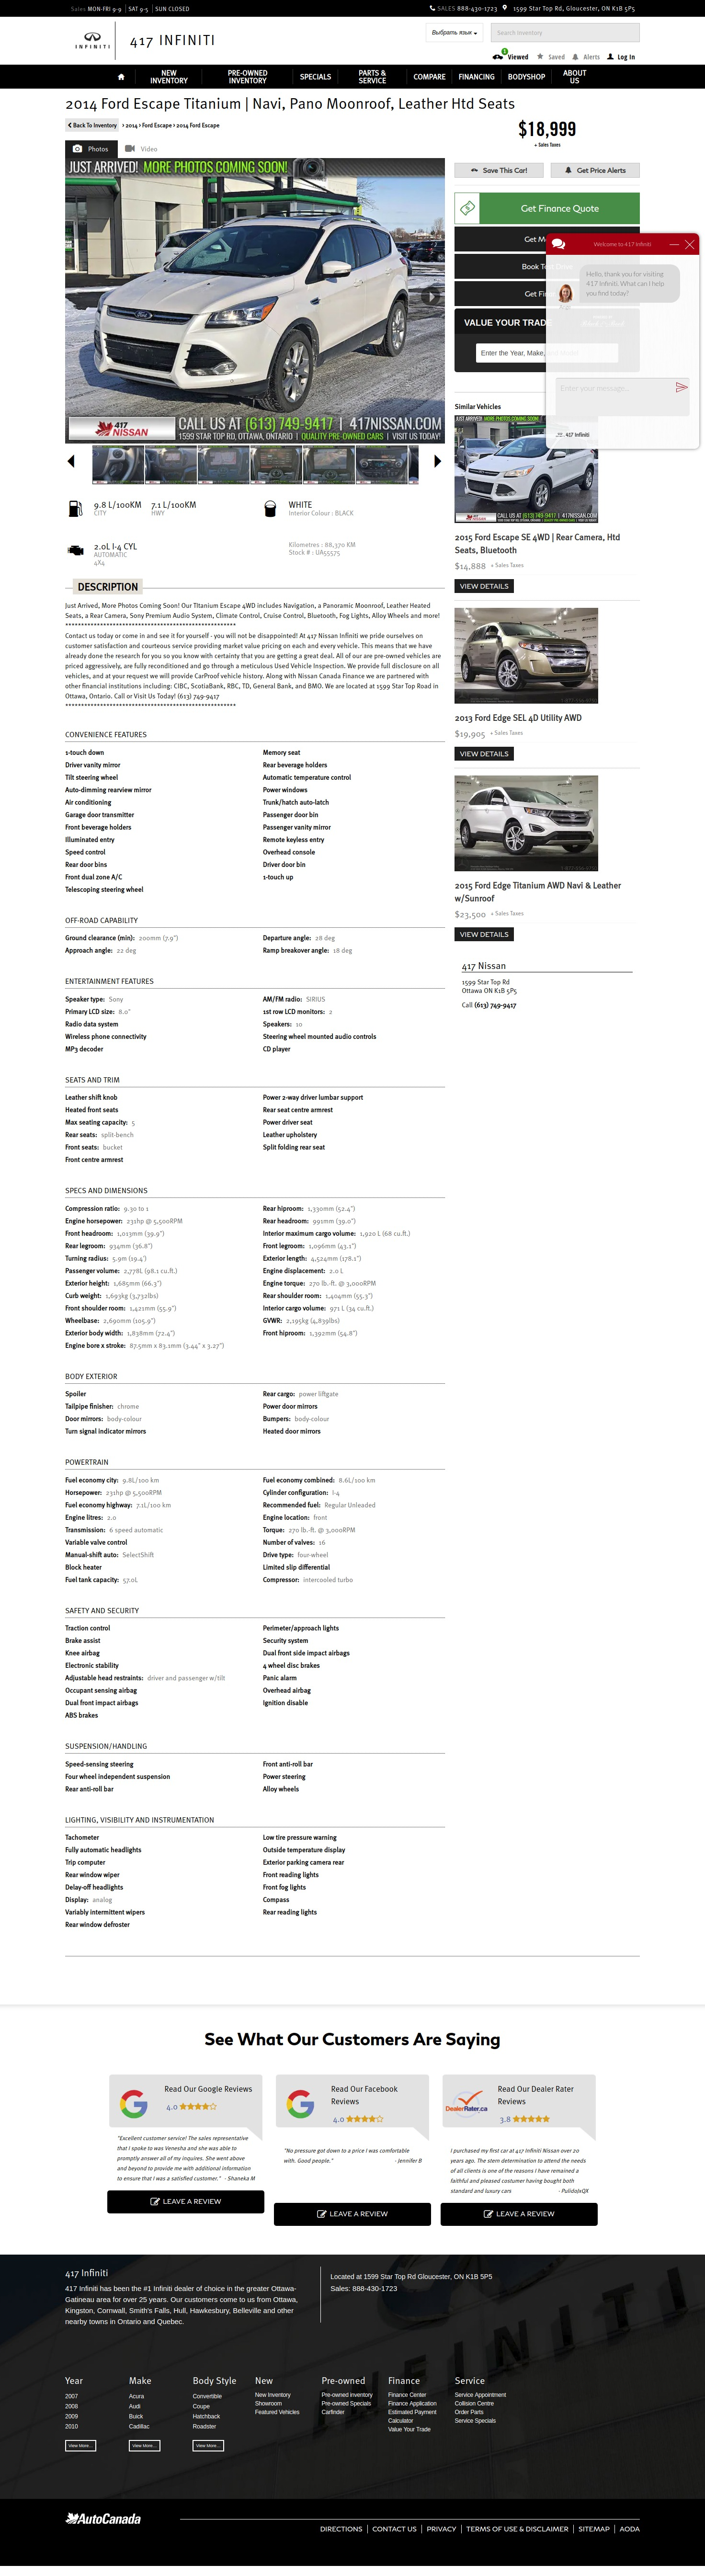car: (431, 453, 447, 471)
